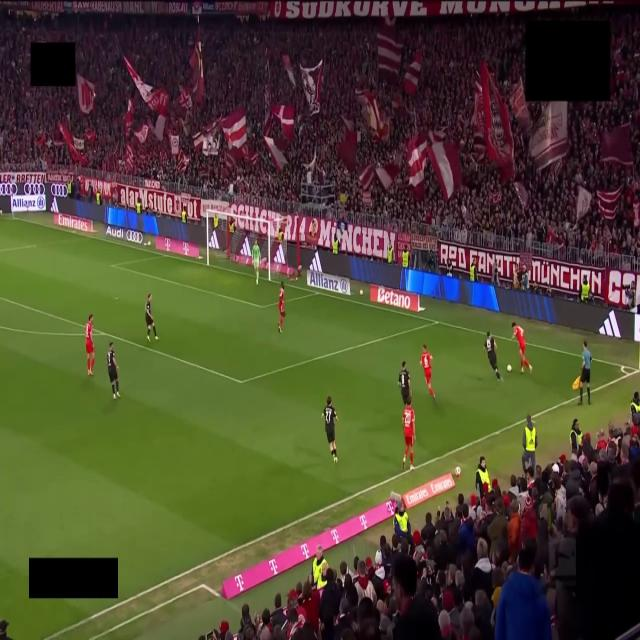ball: (507, 365, 511, 372)
player: (512, 322, 532, 373), (323, 396, 337, 463), (484, 332, 502, 382), (420, 344, 435, 400), (403, 402, 415, 470), (107, 342, 119, 399), (145, 294, 158, 341), (398, 361, 411, 405), (85, 314, 94, 375), (252, 239, 260, 284), (278, 283, 285, 333)
